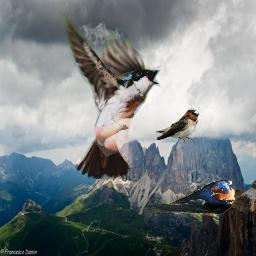Swallow: (59, 10, 161, 179), (142, 179, 236, 216), (155, 108, 201, 142)
